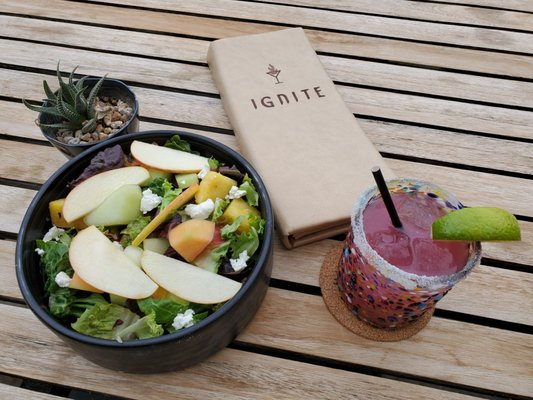sushi: (14, 130, 277, 376), (22, 67, 140, 158)
